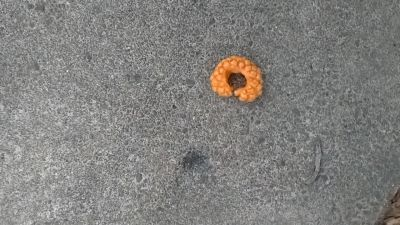eggs: (207, 54, 265, 105)
